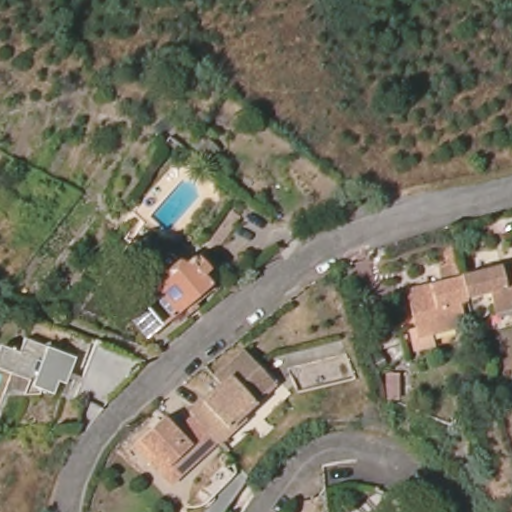pool: (154, 180, 198, 229)
